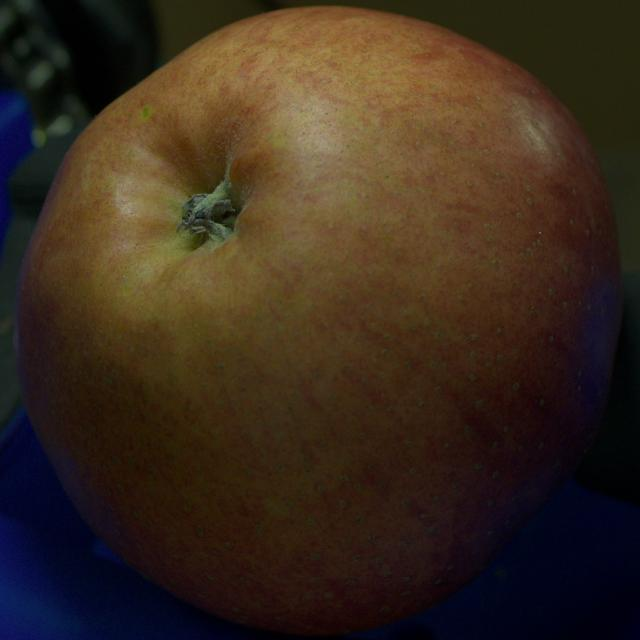apple: (15, 7, 622, 635)
